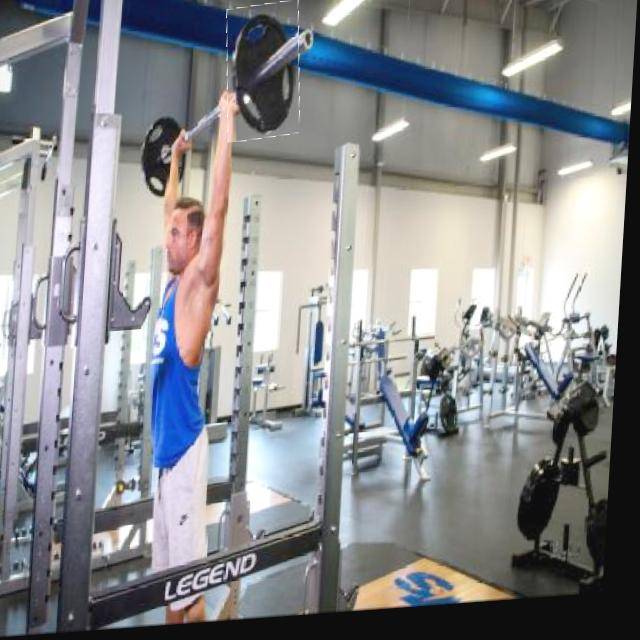barbell: (224, 7, 306, 147)
